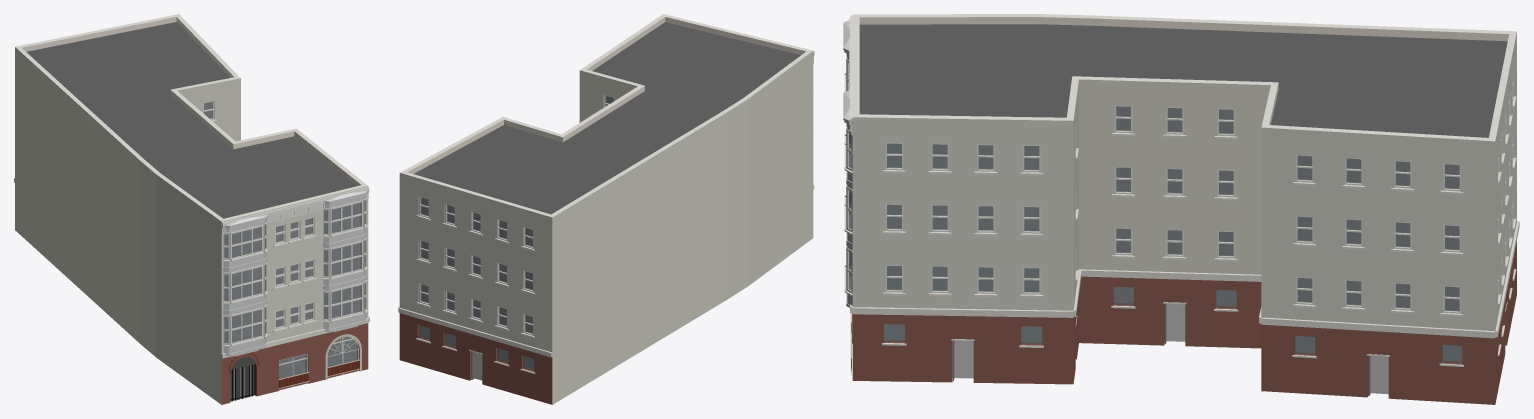
File: exterior.glb
3 views of the same model, side by side, from view 1: azimuth 30°, elevation 25°; view 2: azimuth 150°, elevation 25°; view 3: azimuth 270°, elevation 25° (orthographic). The views are drawn at different scales.
Visible parts, largest first — view 1: shell, roof, bay-glazing-hyb, shadow-proxy, bay-windows-hyb, glazing, trim, storefront, frames, facade-r10, hand-ornament, hyC-arches-1; view 2: shell, roof, glazing, shadow-proxy, frames, trim; view 3: shell, roof, shadow-proxy, glazing, trim, frames, bay-glazing-hyb, bay-windows-hyb.
Part boxes in pixels (box(x1,y1,x2,y2)): shell: box(15, 14, 368, 404); roof: box(26, 22, 356, 218); bay-glazing-hyb: box(223, 198, 368, 346); shadow-proxy: box(204, 102, 360, 398); bay-windows-hyb: box(221, 190, 367, 356); glazing: box(204, 101, 357, 378); trim: box(14, 119, 369, 358); storefront: box(230, 333, 358, 401); frames: box(203, 101, 314, 329); facade-r10: box(275, 217, 313, 328); hand-ornament: box(278, 359, 360, 388); hyC-arches-1: box(230, 333, 361, 379); shell: box(399, 14, 813, 404); roof: box(414, 22, 800, 214); glazing: box(418, 96, 613, 371); shadow-proxy: box(421, 96, 613, 380); frames: box(419, 94, 614, 335); trim: box(398, 51, 814, 374); shell: box(852, 14, 1516, 404); roof: box(859, 24, 1507, 137); shadow-proxy: box(884, 106, 1461, 394); glazing: box(884, 106, 1462, 363); trim: box(849, 15, 1519, 366); frames: box(885, 76, 1513, 313); bay-glazing-hyb: box(844, 53, 852, 295); bay-windows-hyb: box(843, 20, 852, 307).
Bounding box in the file's own units: 14.42 × 13.8 × 32.07.
